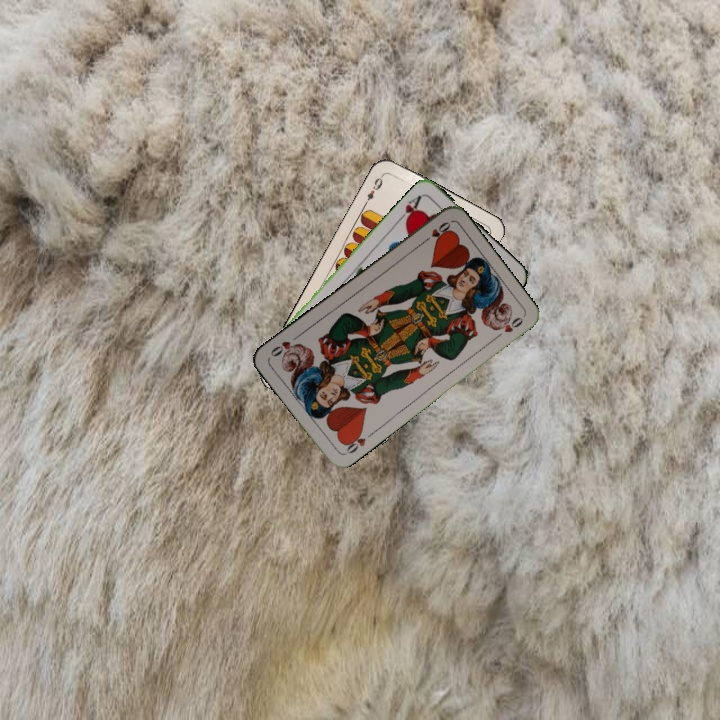E9: (361, 170, 386, 207)
HA: (394, 191, 425, 227)
HO: (418, 217, 453, 246), (340, 427, 369, 457)
